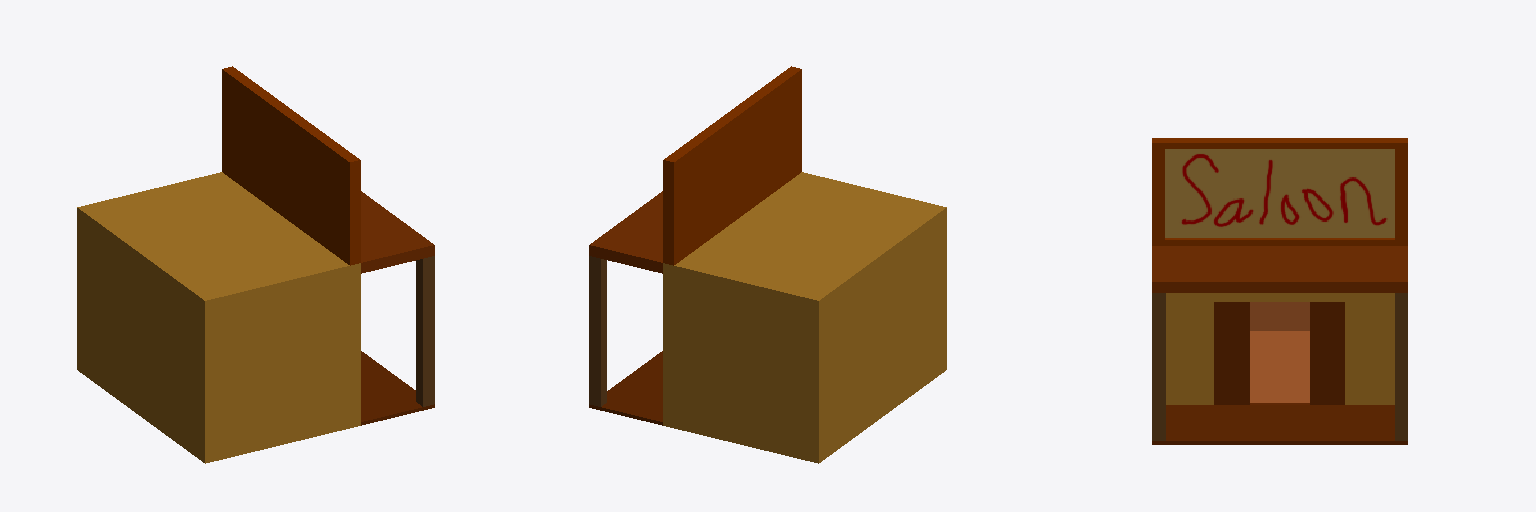
3 renders of one model, left to right at view 1: azimuth 30°, elevation 25°; view 2: azimuth 150°, elevation 25°; view 3: azimuth 270°, elevation 25°, orthographic.
Parts seen in each view (by area): view 1: Cube_Cube.001; view 2: Cube_Cube.001; view 3: Cube_Cube.001.
Boxes of the visible parts, x1,y1,x2,y2 form: Cube_Cube.001: [77, 66, 434, 463]; Cube_Cube.001: [589, 66, 946, 463]; Cube_Cube.001: [1152, 138, 1407, 444].
Size of the model in its own units: 7 by 7.74 by 6.75.
Materials: 1 (1 with a texture image).